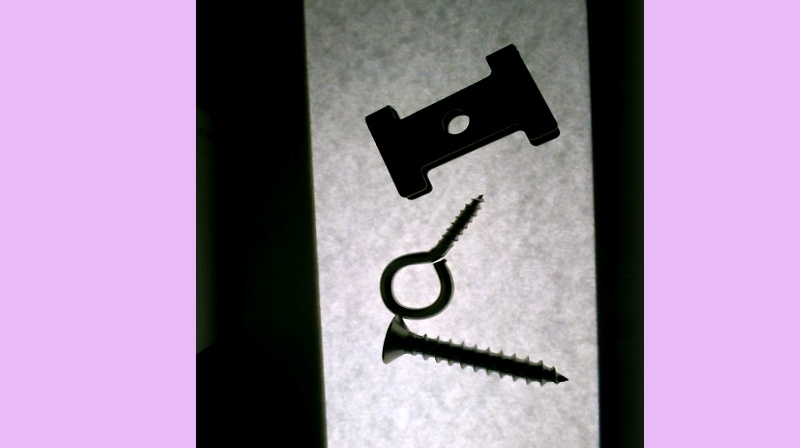O001: (377, 194, 483, 321)
O002: (362, 41, 563, 201)
S001: (373, 313, 569, 388)
